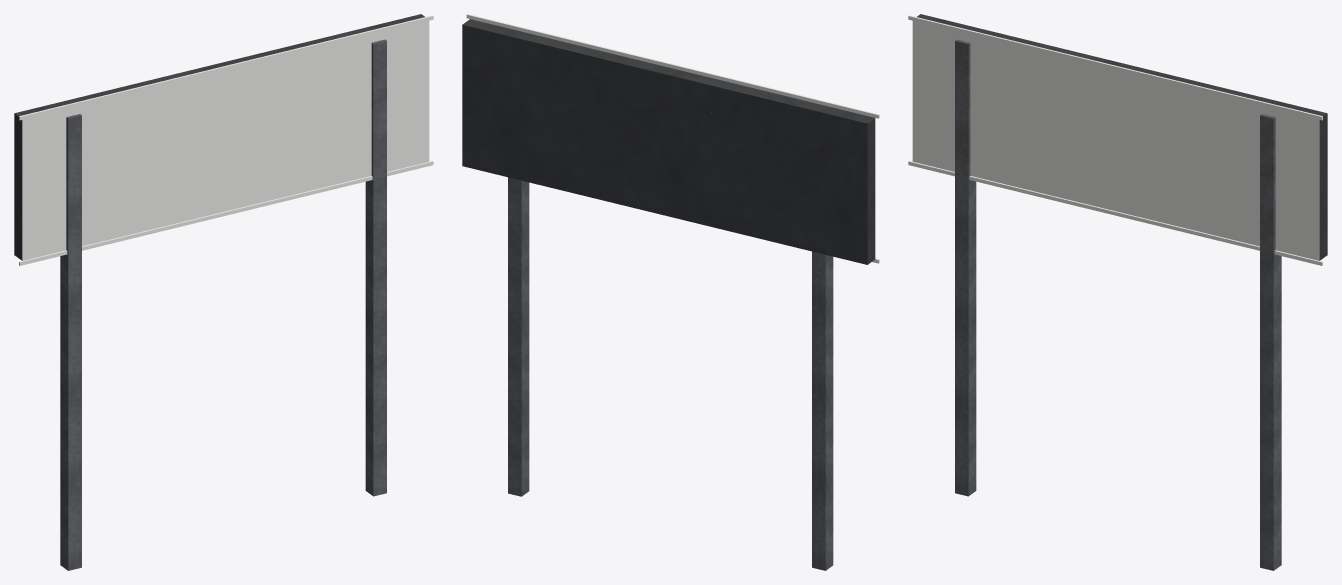
The model's file is corner_sign.glb.
The picture shows the model from 3 angles, left to right: view 1: azimuth 30°, elevation 25°; view 2: azimuth 150°, elevation 25°; view 3: azimuth 330°, elevation 25°; orthographic projection.
Visible parts, largest first — view 1: corner_sign; view 2: corner_sign; view 3: corner_sign.
Boxes of the visible parts, x1,y1,x2,y2 form: corner_sign: (14,14,433,570); corner_sign: (462,14,879,570); corner_sign: (908,14,1327,570).
Bounding box in the file's own units: 2.44 × 2.62 × 0.1.
3 materials, 2 textured.
